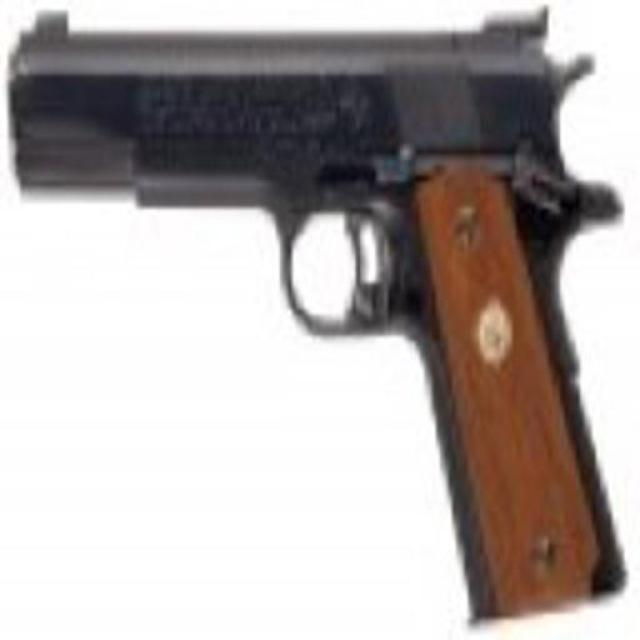pistol: (15, 21, 627, 617)
